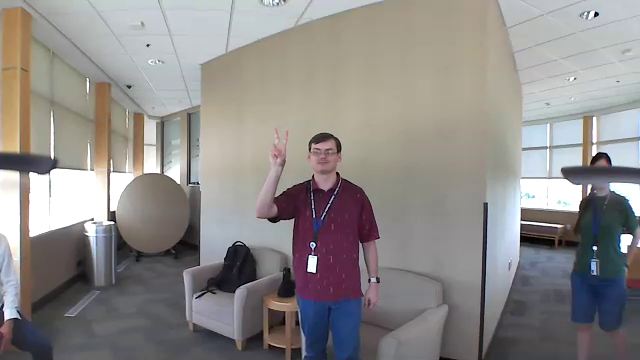peace: (262, 129, 296, 172)
